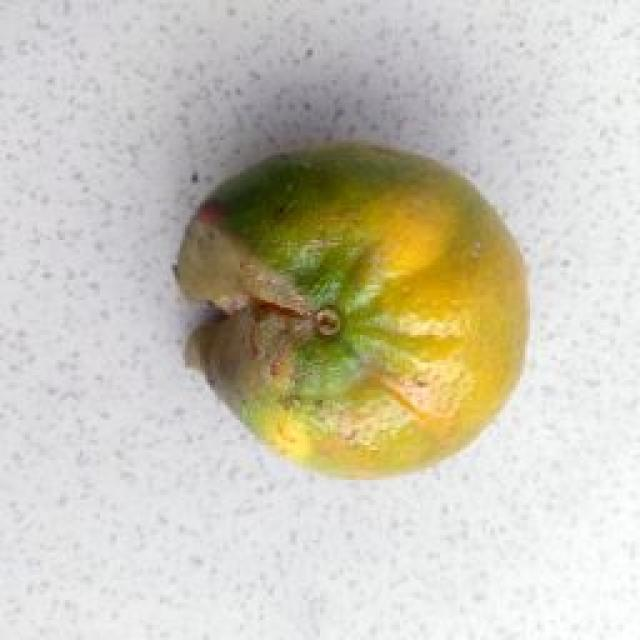Bad_Orange: (176, 142, 526, 477)
